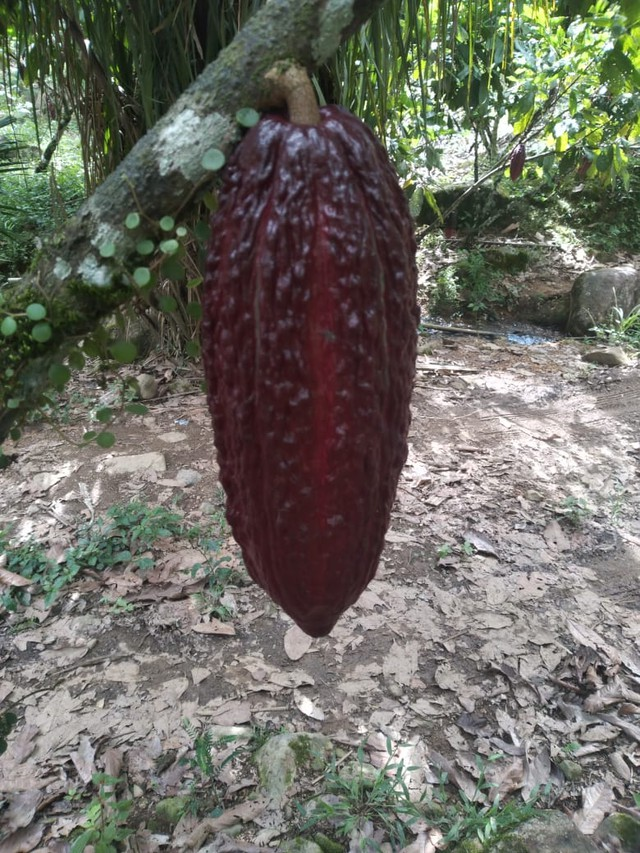Health: (188, 98, 431, 655)
